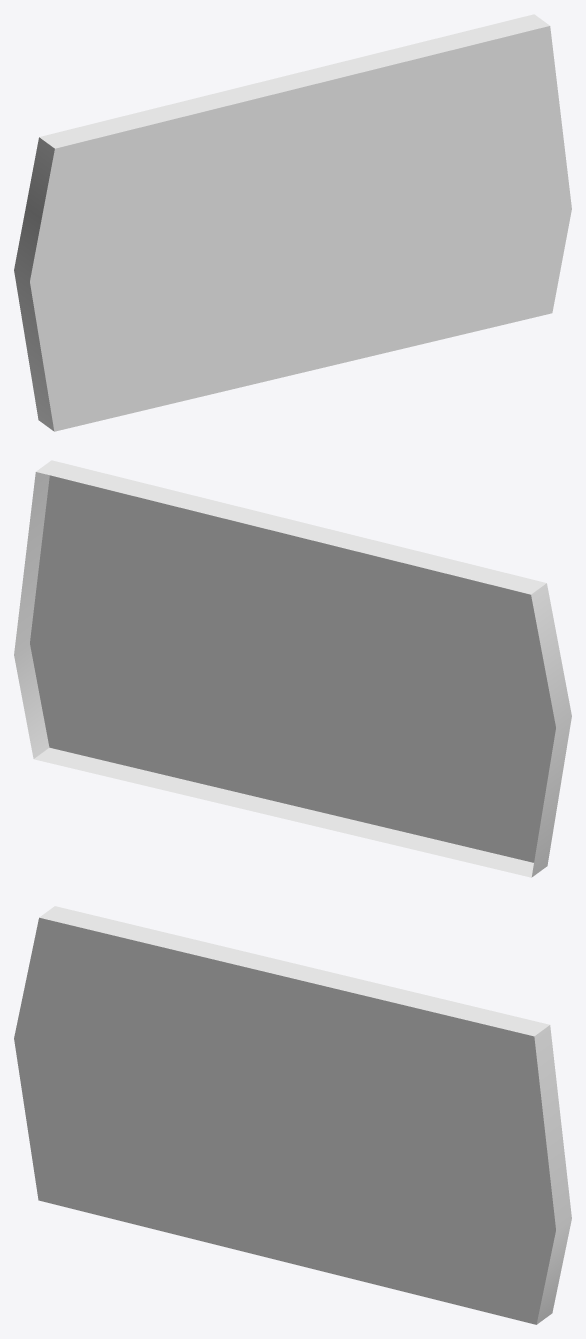
File: button_2.fbx
3 views of the same model, one above another, from view 1: azimuth 30°, elevation 25°; view 2: azimuth 150°, elevation 25°; view 3: azimuth 330°, elevation 25° (orthographic).
Parts seen in each view (by area): view 1: button_2; view 2: button_2; view 3: button_2.
Boxes of the visible parts, bbox=[...] form: button_2: bbox=[14, 14, 571, 431]; button_2: bbox=[14, 460, 571, 877]; button_2: bbox=[14, 906, 571, 1324].
Bounding box in the file's own units: 44.54 × 22.61 × 2.26.
